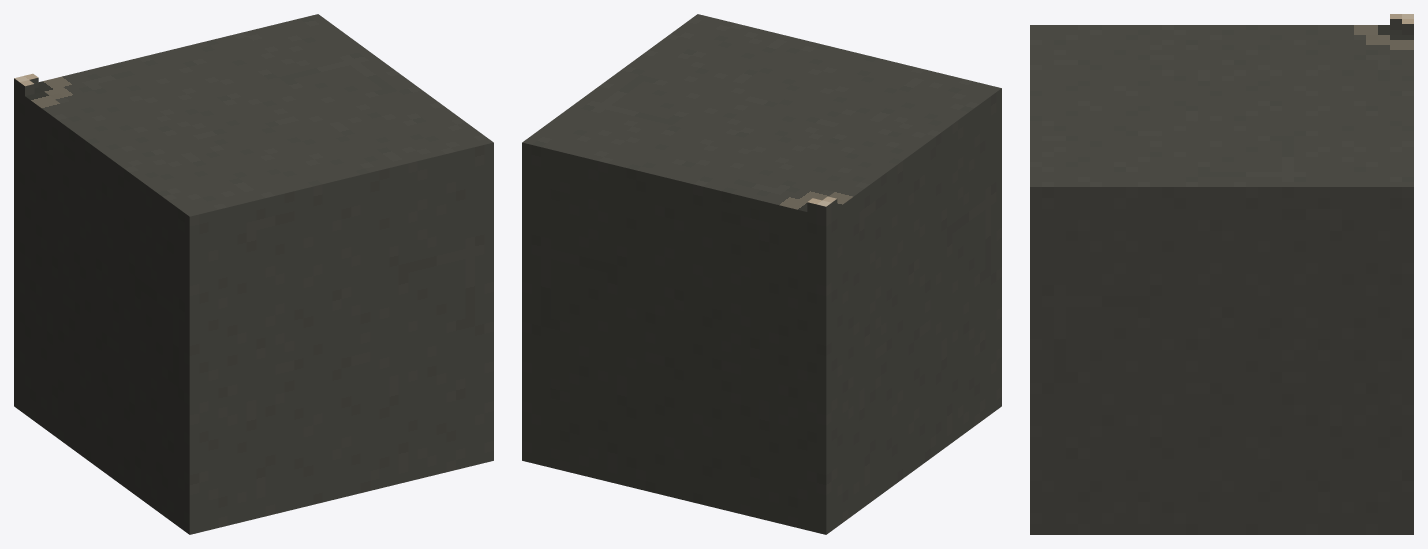
Rendered from road_asphalt_to_sidewalk_inner_corner.gltf.
3 renders of one model, left to right at view 1: azimuth 30°, elevation 25°; view 2: azimuth 150°, elevation 25°; view 3: azimuth 270°, elevation 25°, orthographic. The views are drawn at different scales.
Parts seen in each view (by area): view 1: block_sides, transition_top; view 2: block_sides, transition_top; view 3: block_sides, transition_top.
Part boxes in pixels (left/top/right/bottom): block_sides: left=14, top=77, right=493, bottom=534; transition_top: left=14, top=14, right=493, bottom=216; block_sides: left=522, top=88, right=1001, bottom=534; transition_top: left=522, top=14, right=1001, bottom=211; block_sides: left=1030, top=19, right=1413, bottom=534; transition_top: left=1030, top=14, right=1413, bottom=186.
Bounding box in the file's own units: 2 × 2.06 × 2.
Materials: 2 (2 with a texture image).
